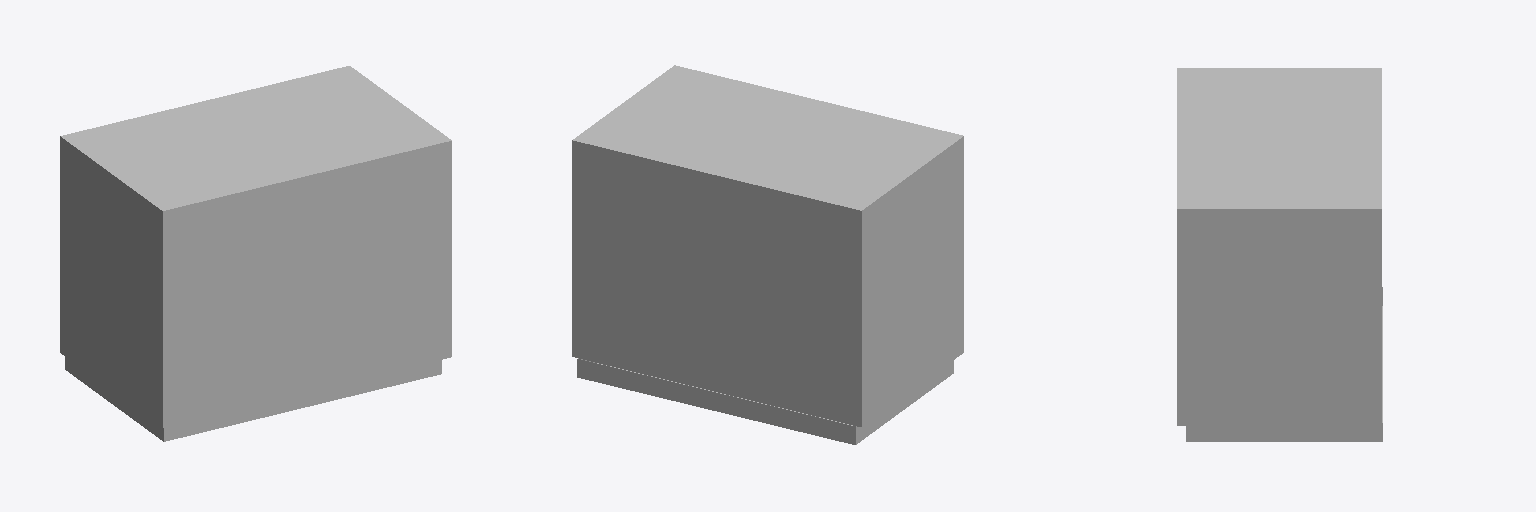
Rendered from Bench - 30x48.obj.
3 renders of one model, left to right at view 1: azimuth 30°, elevation 25°; view 2: azimuth 150°, elevation 25°; view 3: azimuth 270°, elevation 25°, orthographic.
Parts seen in each view (by area): view 1: Box001; view 2: Box001; view 3: Box001.
Boxes of the visible parts, x1=… form: Box001: x1=60, y1=66, x2=451, y2=441; Box001: x1=572, y1=65, x2=963, y2=444; Box001: x1=1177, y1=68, x2=1382, y2=441.
Size of the model in its own units: 48.88 by 37.98 by 30.11.